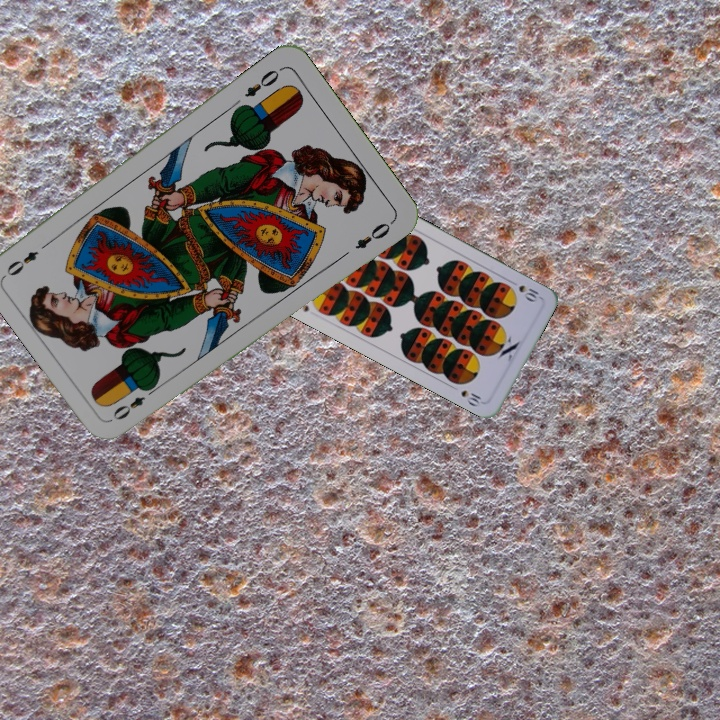EO: (108, 382, 160, 423), (240, 63, 285, 100)
S10: (506, 276, 541, 305)
